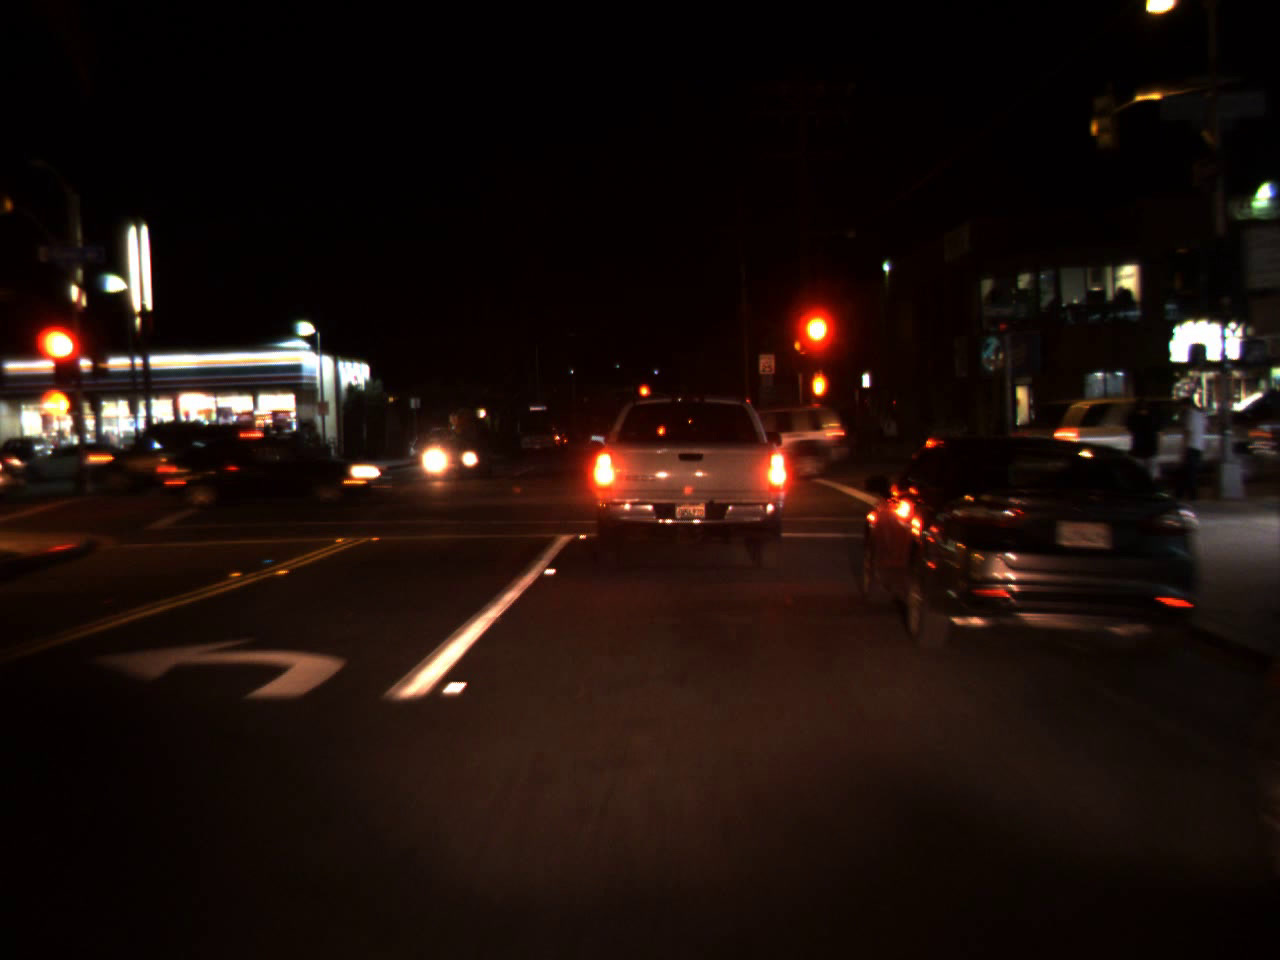stop: (39, 325, 82, 395), (800, 313, 831, 372), (637, 383, 652, 410)
